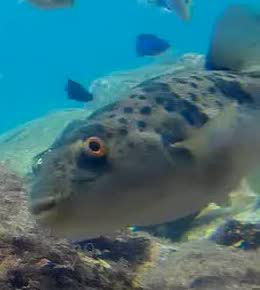hugu: (29, 66, 250, 228)
smallfish: (123, 32, 175, 60)
